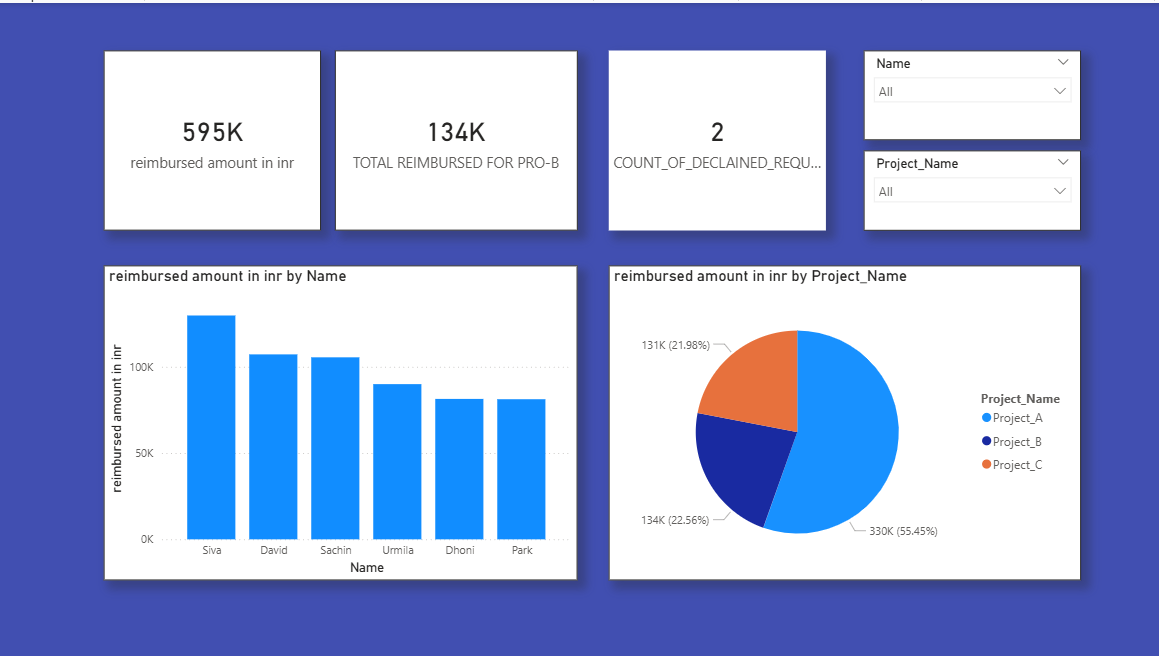

This screenshot's page, from the dashboard's own definition file:
{"tool":"powerbi","page":{"name":"Page 1","canvas":[1280,720],"ordinal":0},"visuals":[{"type":"card","fields":{"Values":["reimbursement.reimbursed amount in inr"]},"box":[119.4,52.1,238.8,197.6],"z":0},{"type":"card","fields":{"Values":["reimbursement.TOTAL REIMBURSED FOR PRO-B"]},"box":[373.2,52.1,266.2,197.6],"z":1000},{"type":"card","fields":{"Values":["reimbursement.COUNT_OF_DECLAINED_REQUEST"]},"box":[673.8,52.1,238.8,197.6],"z":2000},{"type":"slicer","fields":{"Values":["Dim_employee.Name"]},"box":[953.7,52.1,238.8,98.8],"z":3000},{"type":"slicer","fields":{"Values":["reimbursement.Project_Name"]},"box":[953.7,161.9,238.8,87.8],"z":4000},{"type":"columnChart","fields":{"Category":["Dim_employee.Name"],"Y":["reimbursement.reimbursed amount in inr"]},"box":[119.4,288.2,520.1,345.8],"z":5000},{"type":"pieChart","fields":{"Category":["reimbursement.Project_Name"],"Y":["reimbursement.reimbursed amount in inr"]},"box":[673.8,288.2,518.7,345.8],"z":5001}]}

Visuals, with their boxes in screenshot pixels (x1, y1, x2, y2), scaled from the page's 1280x720 canvas onto the 1159x656 screenshot:
card - reimbursement.reimbursed amount in inr: x1=108, y1=47, x2=324, y2=228
card - reimbursement.TOTAL REIMBURSED FOR PRO-B: x1=338, y1=47, x2=579, y2=228
card - reimbursement.COUNT_OF_DECLAINED_REQUEST: x1=610, y1=47, x2=826, y2=228
slicer - Dim_employee.Name: x1=864, y1=47, x2=1080, y2=137
slicer - reimbursement.Project_Name: x1=864, y1=148, x2=1080, y2=228
columnChart - Dim_employee.Name x reimbursement.reimbursed amount in inr: x1=108, y1=263, x2=579, y2=578
pieChart - reimbursement.Project_Name x reimbursement.reimbursed amount in inr: x1=610, y1=263, x2=1080, y2=578
